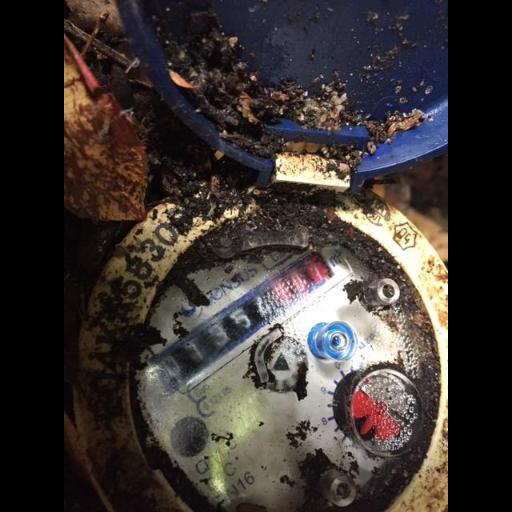0: (154, 347, 191, 387), (281, 261, 314, 298)
1: (176, 332, 214, 373)
3: (199, 316, 237, 357), (298, 250, 331, 288)
4: (247, 291, 281, 325)
5: (223, 300, 259, 338)
border_water_meter_number: (147, 238, 347, 398)
